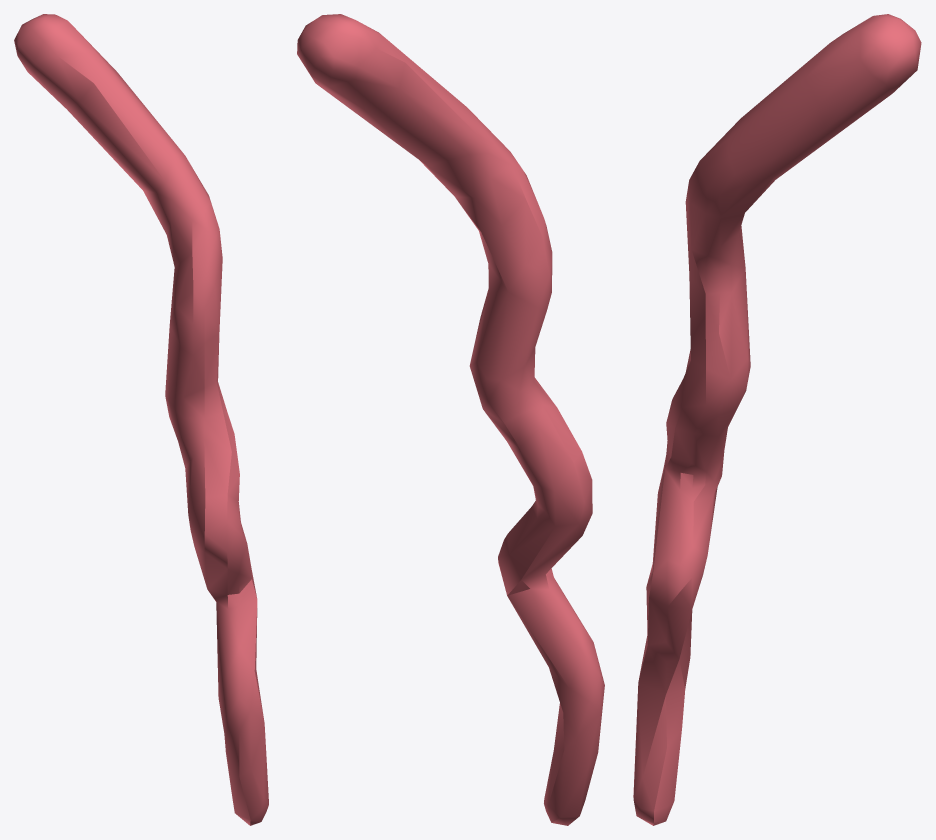
Rendered from fma3860_fj2636.glb.
3 renders of one model, left to right at view 1: azimuth 90°, elevation 25°; view 2: azimuth 150°, elevation 25°; view 3: azimuth 270°, elevation 25°, orthographic. The views are drawn at different scales.
Visible parts, largest first — view 1: FMA3860_FJ2636; view 2: FMA3860_FJ2636; view 3: FMA3860_FJ2636.
Boxes of the visible parts, left/top/right/bottom form: FMA3860_FJ2636: left=14, top=14, right=268, bottom=825; FMA3860_FJ2636: left=297, top=14, right=604, bottom=825; FMA3860_FJ2636: left=633, top=14, right=921, bottom=825.
Size of the model in its own units: 0.00343 by 0.0146 by 0.00444.
